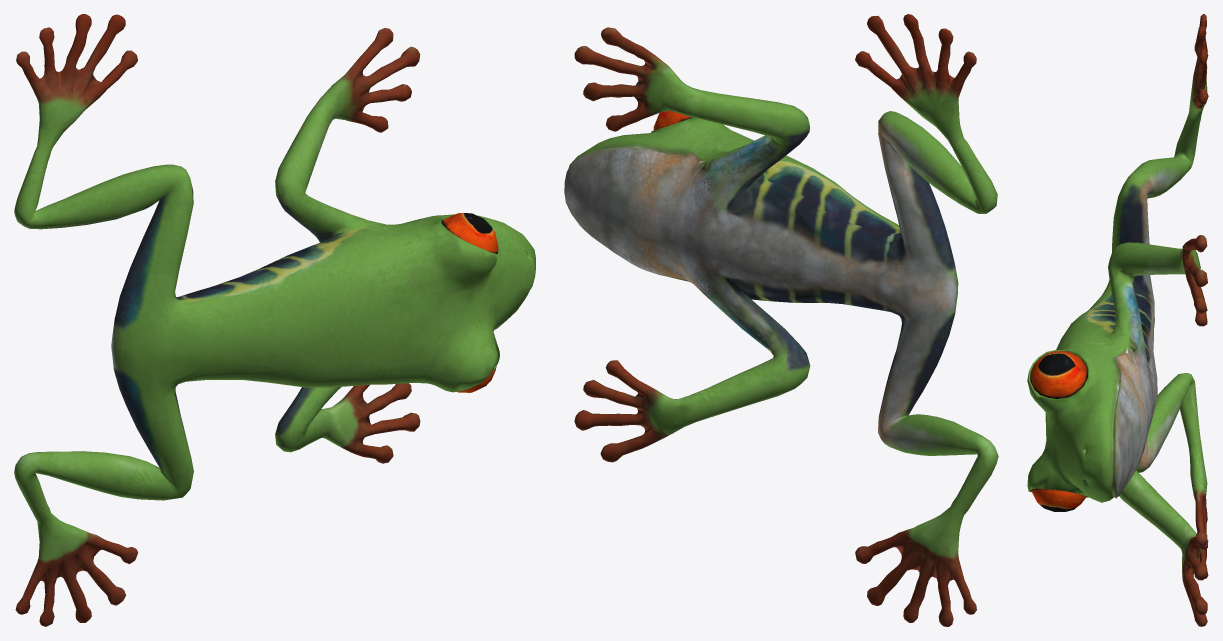
File: sapo_simplificado.obj
3 views of the same model, side by side, from view 1: azimuth 30°, elevation 25°; view 2: azimuth 150°, elevation 25°; view 3: azimuth 270°, elevation 25° (orthographic). The views are drawn at different scales.
Size of the model in its own units: 9.26 by 11.37 by 3.42.
Materials: 1 (1 with a texture image).
